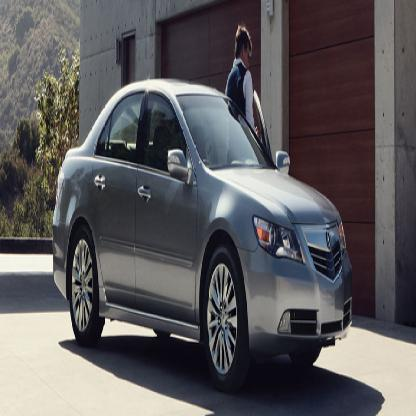Vehicle: (50, 76, 354, 388)
